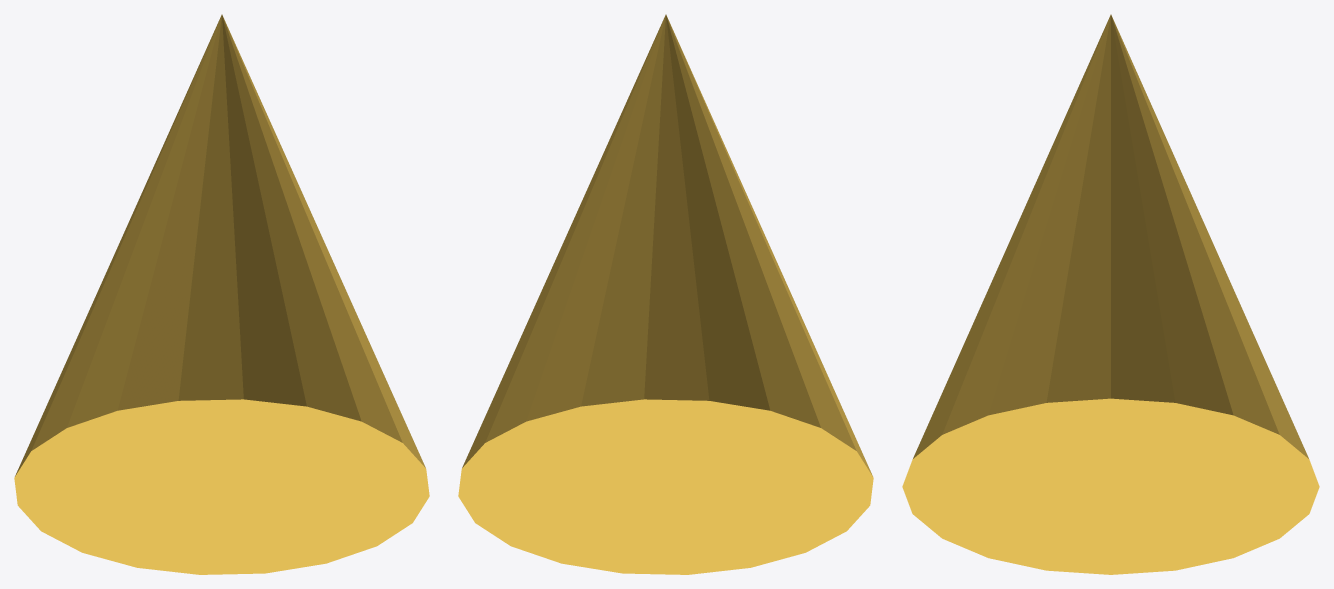
The picture shows the model from 3 angles, left to right: view 1: azimuth 30°, elevation 25°; view 2: azimuth 150°, elevation 25°; view 3: azimuth 270°, elevation 25°; orthographic projection.
Parts seen in each view (by area): view 1: cone; view 2: cone; view 3: cone.
Boxes of the visible parts, left/top/right/bottom form: cone: left=14, top=14, right=429, bottom=574; cone: left=458, top=14, right=873, bottom=574; cone: left=902, top=14, right=1319, bottom=574.
Bounding box in the file's own units: 1.6 × 2 × 1.6.
